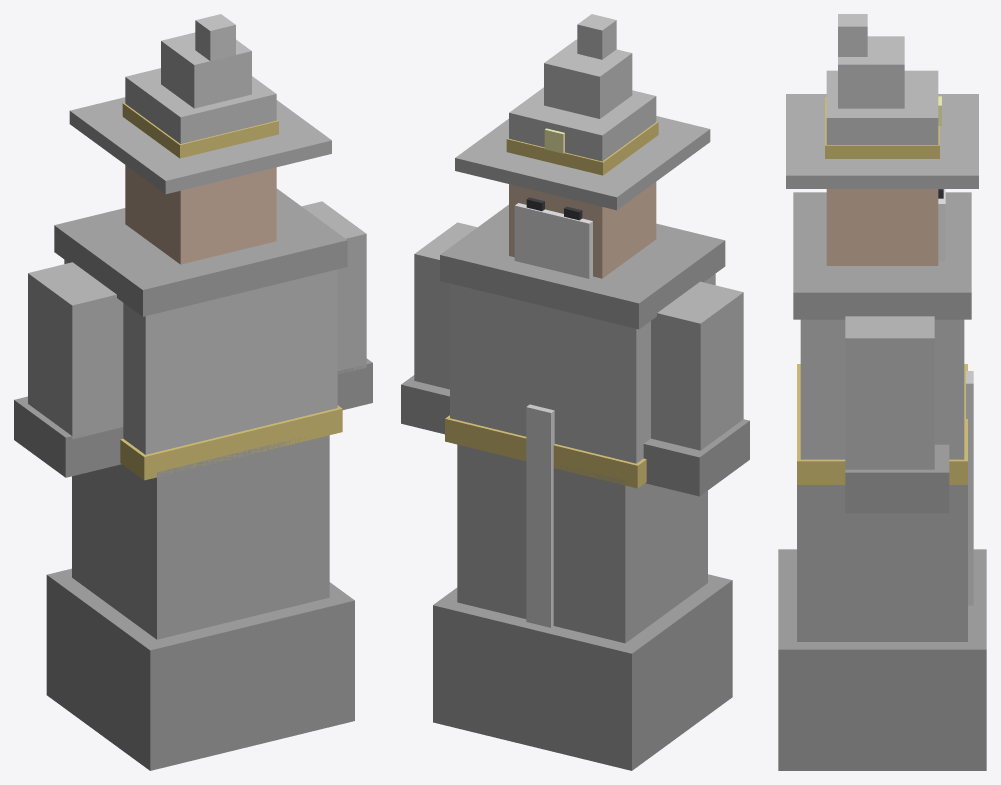
The model's file is WIZARD.gltf.
3 views of the same model, side by side, from view 1: azimuth 30°, elevation 25°; view 2: azimuth 150°, elevation 25°; view 3: azimuth 270°, elevation 25° (orthographic). The views are drawn at different scales.
Parts seen in each view (by area): view 1: WIZARD; view 2: WIZARD; view 3: WIZARD.
Part boxes in pixels (bbox=[...]): WIZARD: bbox=[14, 14, 372, 770]; WIZARD: bbox=[401, 14, 749, 770]; WIZARD: bbox=[778, 14, 986, 770].
Size of the model in its own units: 0.96 by 2.08 by 0.56.
